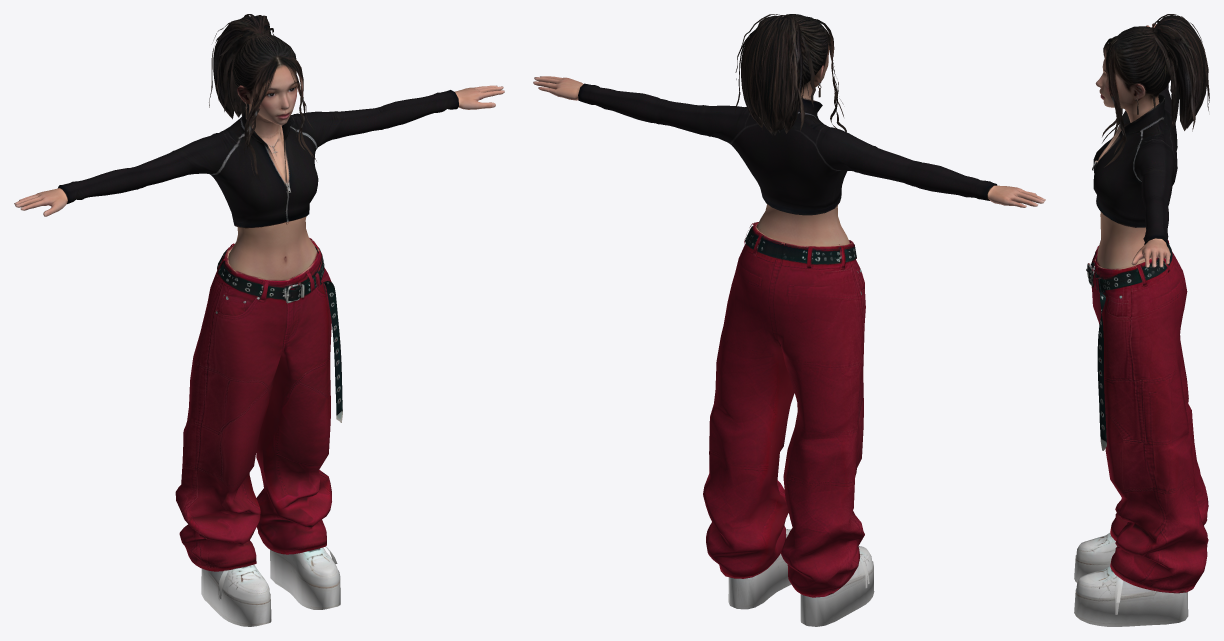
File: game model.glb
3 views of the same model, side by side, from view 1: azimuth 30°, elevation 25°; view 2: azimuth 150°, elevation 25°; view 3: azimuth 270°, elevation 25° (orthographic). The views are drawn at different scales.
Parts seen in each view (by area): view 1: tripo_node_cab6ff24-13f5-4768-8bd5-69b9a83e259f; view 2: tripo_node_cab6ff24-13f5-4768-8bd5-69b9a83e259f; view 3: tripo_node_cab6ff24-13f5-4768-8bd5-69b9a83e259f.
Boxes of the visible parts, box(x1,y1,x2,y2) form: tripo_node_cab6ff24-13f5-4768-8bd5-69b9a83e259f: box(14, 14, 504, 626); tripo_node_cab6ff24-13f5-4768-8bd5-69b9a83e259f: box(533, 14, 1045, 626); tripo_node_cab6ff24-13f5-4768-8bd5-69b9a83e259f: box(1074, 14, 1209, 626).
Bounding box in the file's own units: 0.897 × 0.9995 × 0.2114.
Materials: 1 (1 with a texture image).
